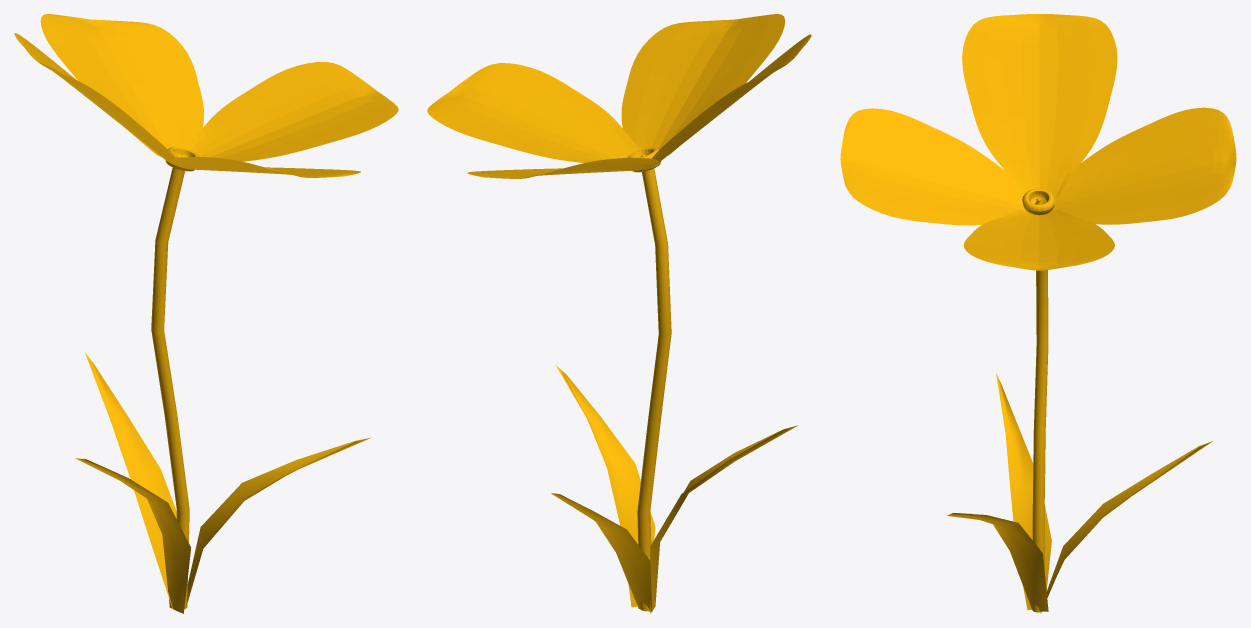
The model's file is CaliPoppyLODs.fbx.
3 views of the same model, side by side, from view 1: azimuth 30°, elevation 25°; view 2: azimuth 150°, elevation 25°; view 3: azimuth 270°, elevation 25° (orthographic). The views are drawn at different scales.
Visible parts, largest first — view 1: CaliPoppy_LOD0; view 2: CaliPoppy_LOD0; view 3: CaliPoppy_LOD0.
Boxes of the visible parts, <box> form: CaliPoppy_LOD0: <box>14,14,398,613</box>; CaliPoppy_LOD0: <box>427,14,811,613</box>; CaliPoppy_LOD0: <box>840,14,1236,613</box>.
Size of what is drawn, in the model's own units: 871 by 1424 by 957.
